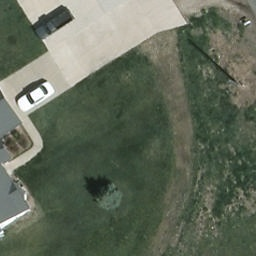car: (15, 79, 56, 111)
pickup: (32, 5, 76, 42)
